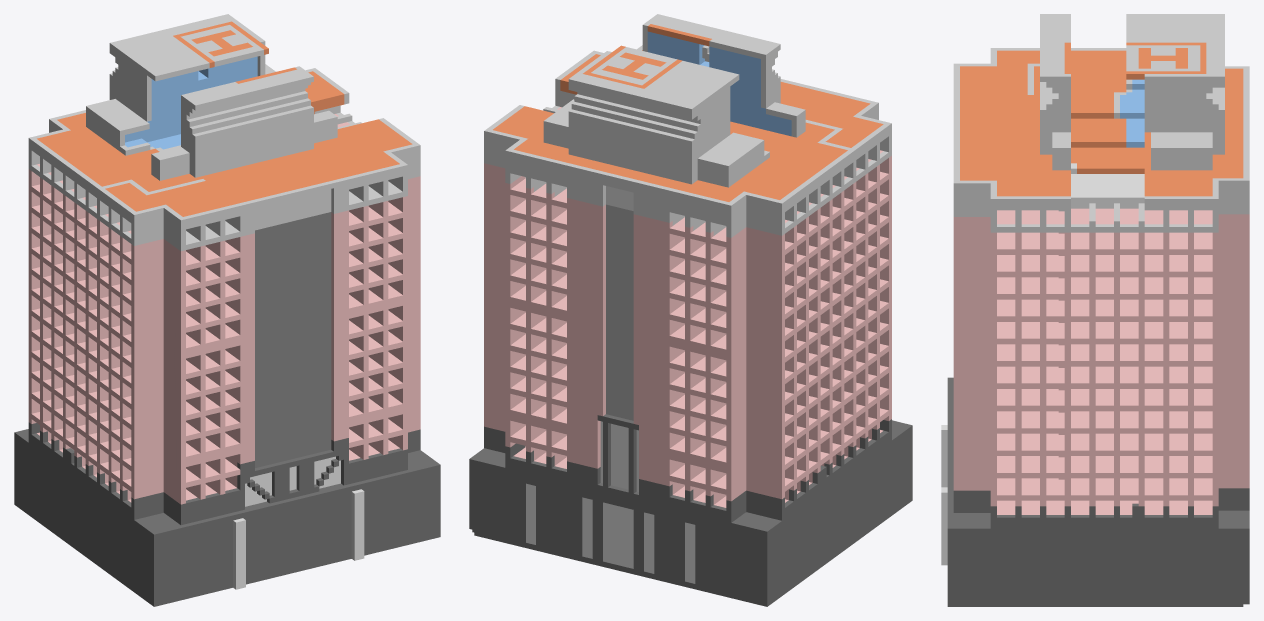
The model's file is kagoshimakentyou.glb.
The picture shows the model from 3 angles, left to right: view 1: azimuth 30°, elevation 25°; view 2: azimuth 150°, elevation 25°; view 3: azimuth 270°, elevation 25°; orthographic projection. The views are drawn at different scales.
Parts seen in each view (by area): view 1: Untitled; view 2: Untitled; view 3: Untitled.
Boxes of the visible parts, x1,y1,x2,y2 form: Untitled: [14, 14, 440, 606]; Untitled: [469, 14, 912, 606]; Untitled: [941, 14, 1249, 606].
Bounding box in the file's own units: 1.16 × 1.74 × 1.
Materials: 1 (1 with a texture image).
